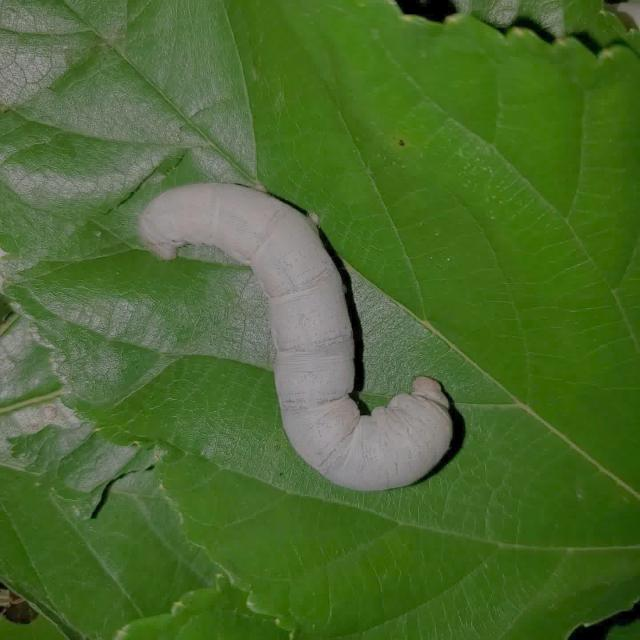Healthy: (118, 145, 478, 501)
